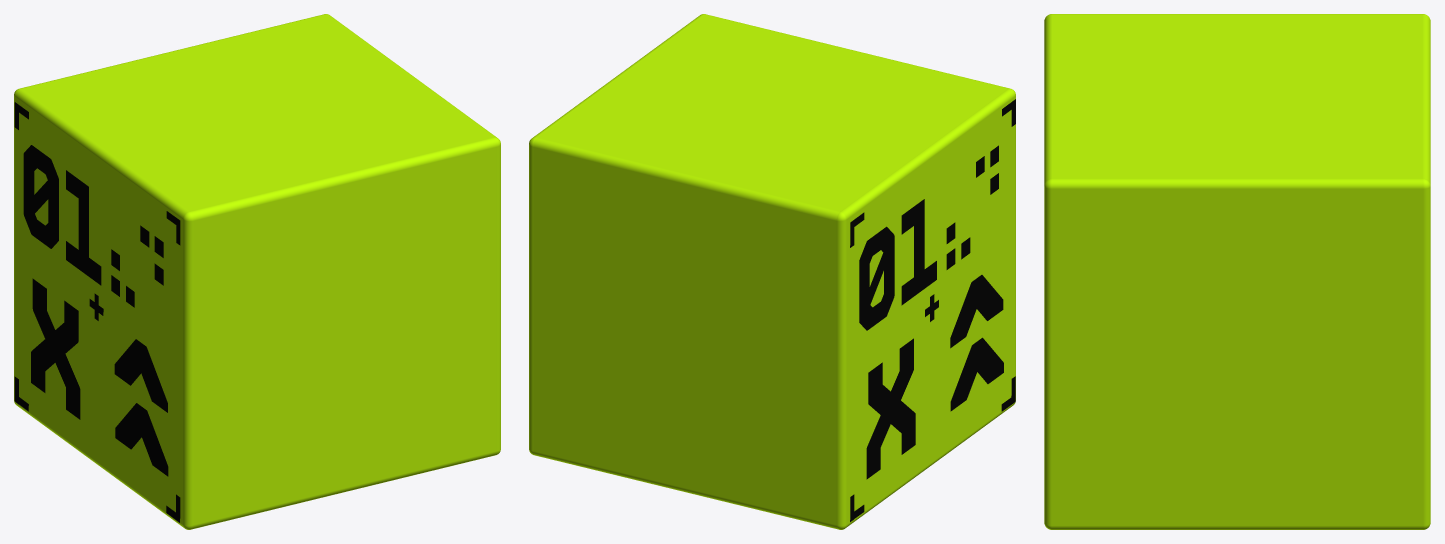
The picture shows the model from 3 angles, left to right: view 1: azimuth 30°, elevation 25°; view 2: azimuth 150°, elevation 25°; view 3: azimuth 270°, elevation 25°; orthographic projection. The views are drawn at different scales.
Visible parts, largest first — view 1: Cube.001, Text.061, Text, Text.049, Text.060, Text.041; view 2: Cube.001, Text.061, Text, Text.049, Text.060, Text.041; view 3: Cube.001.
Boxes of the visible parts, x1,y1,x2,y2 form: Cube.001: (14, 14, 500, 529); Text.061: (23, 145, 101, 285); Text: (32, 278, 80, 419); Text.049: (115, 403, 168, 476); Text.060: (114, 339, 167, 412); Text.041: (31, 300, 78, 392); Cube.001: (529, 14, 1015, 529); Text.061: (859, 199, 936, 330); Text: (868, 362, 915, 454); Text.049: (950, 337, 1003, 411); Text.060: (950, 275, 1003, 348); Text.041: (866, 338, 913, 479); Cube.001: (1044, 14, 1430, 529).
Size of the model in its own units: 209 by 199 by 199.
